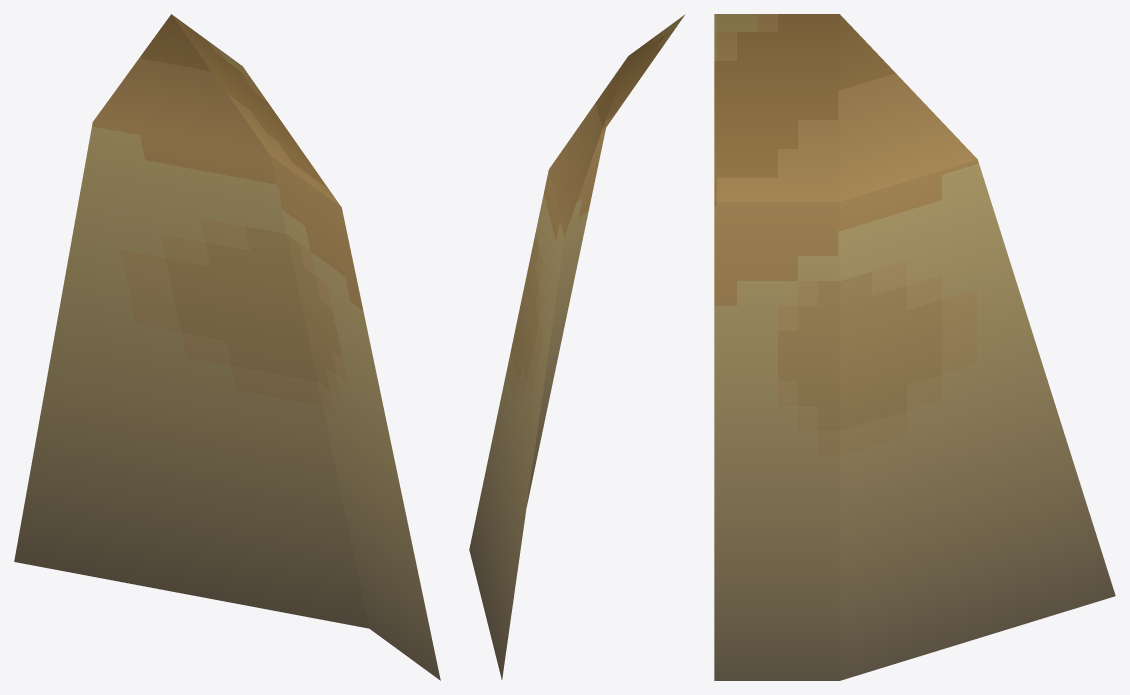
3 renders of one model, left to right at view 1: azimuth 30°, elevation 25°; view 2: azimuth 150°, elevation 25°; view 3: azimuth 270°, elevation 25°, orthographic. The views are drawn at different scales.
Bounding box in the file's own units: 0.5 × 1.6 × 1.
1 material, 1 textured.
